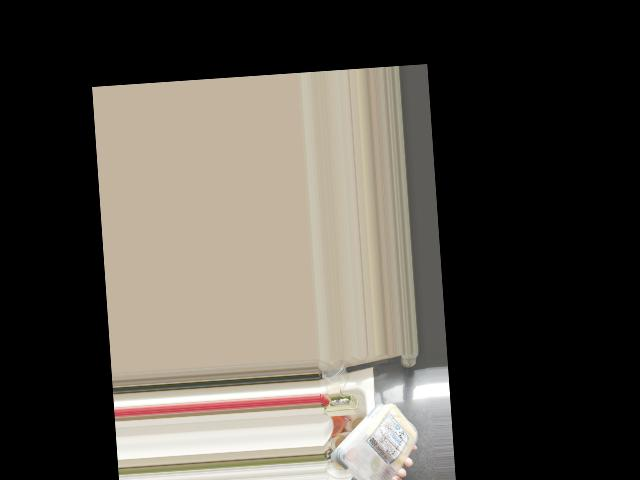cheese: (340, 400, 416, 480)
